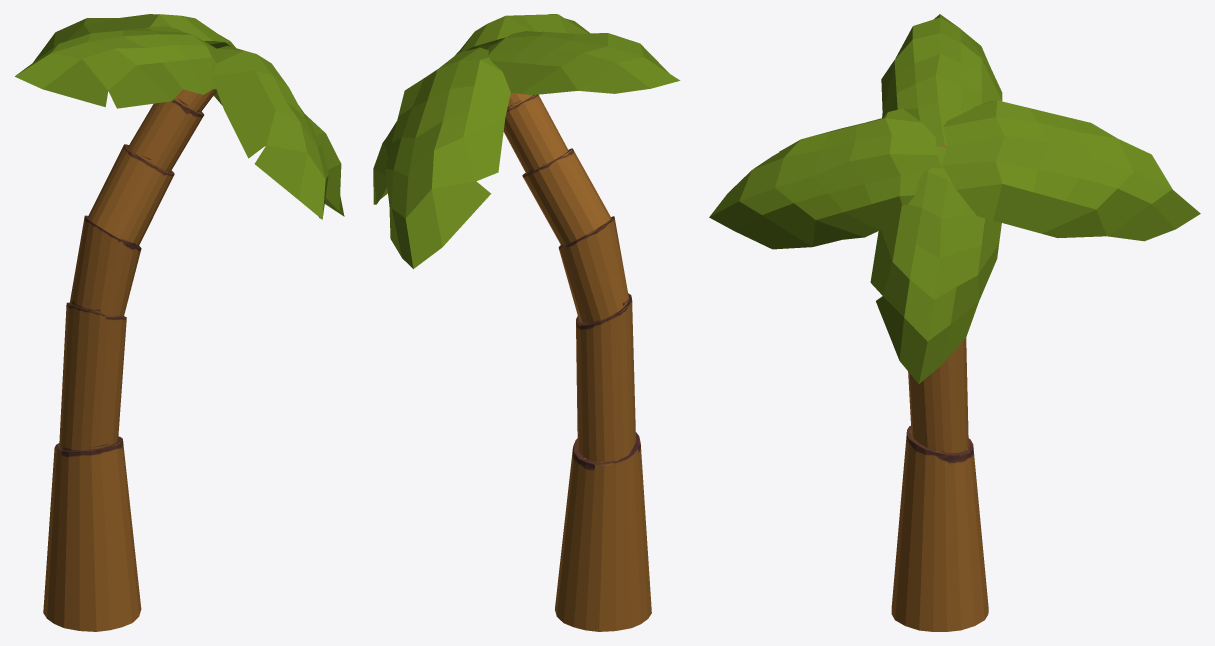
The model's file is Palm.obj.
3 views of the same model, side by side, from view 1: azimuth 30°, elevation 25°; view 2: azimuth 150°, elevation 25°; view 3: azimuth 270°, elevation 25° (orthographic).
Parts seen in each view (by area): view 1: PalmBase_Plane, Leaf.001_Plane.005, Leaf_Plane.004; view 2: PalmBase_Plane, Leaf.001_Plane.005, Leaf_Plane.004; view 3: Leaf.001_Plane.005, Leaf_Plane.004, PalmBase_Plane.
Boxes of the visible parts, x1,y1,x2,y2 form: PalmBase_Plane: (43, 89, 216, 631); Leaf.001_Plane.005: (33, 14, 328, 219); Leaf_Plane.004: (15, 26, 344, 216); PalmBase_Plane: (503, 93, 651, 631); Leaf.001_Plane.005: (385, 14, 589, 268); Leaf_Plane.004: (373, 31, 680, 204); Leaf.001_Plane.005: (709, 100, 1200, 249); Leaf_Plane.004: (870, 14, 1002, 383); PalmBase_Plane: (891, 145, 988, 631).
Size of the model in its own units: 5.99 by 10.21 by 7.9.
Materials: 3 (3 with a texture image).
